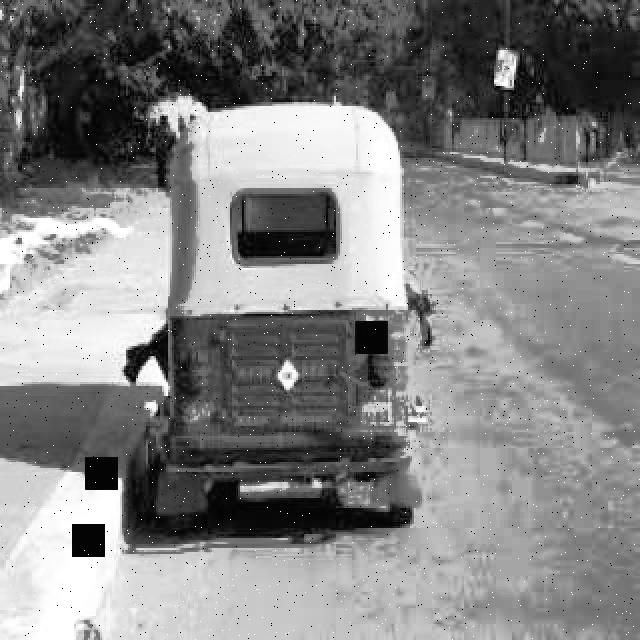Auto-Rickshaw: (156, 102, 430, 538)
